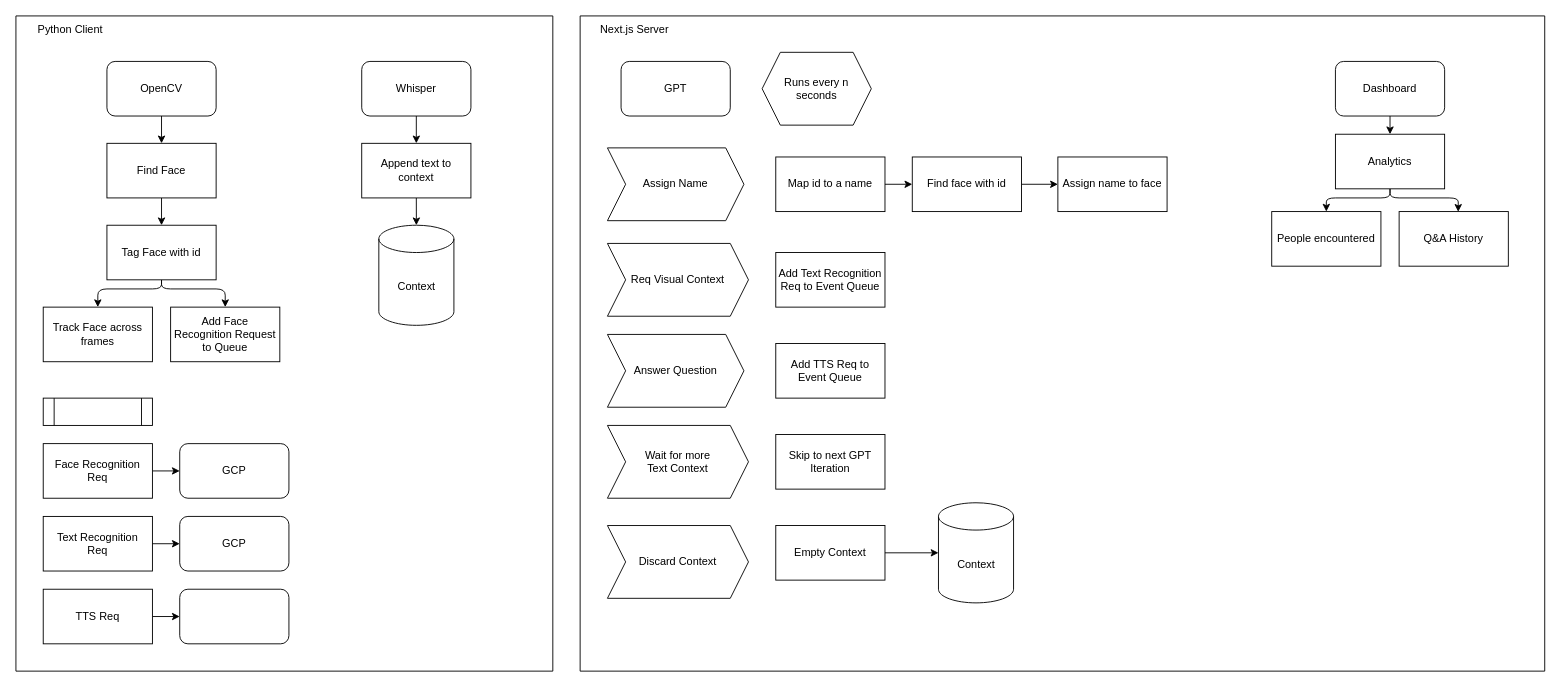
The diagram is 1561 pixels wide and 687 high, and some of its shapes have lost their labels. The shapes that lost their labels are listed below. From the top down, each one's centre as x and y in pixels, then its label:
At (97,411): "Event Queue".
At (234,616): "Eleven Labs?".
